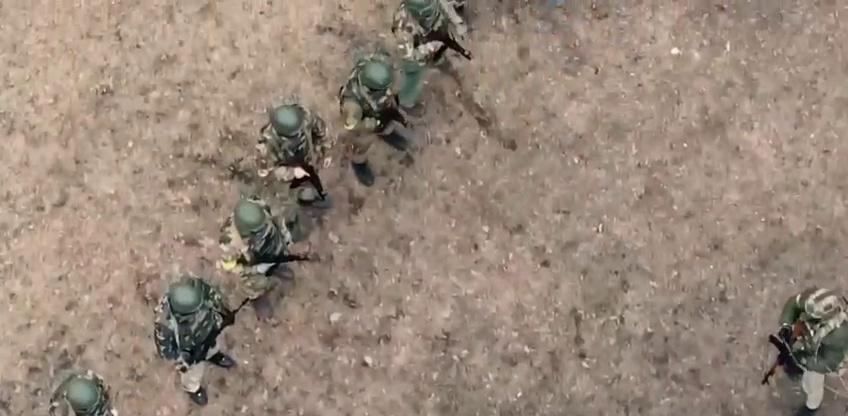person: (153, 275, 251, 406), (217, 195, 313, 320), (760, 286, 848, 416), (392, 0, 472, 117), (340, 56, 410, 186), (256, 104, 333, 209), (46, 365, 113, 416)
